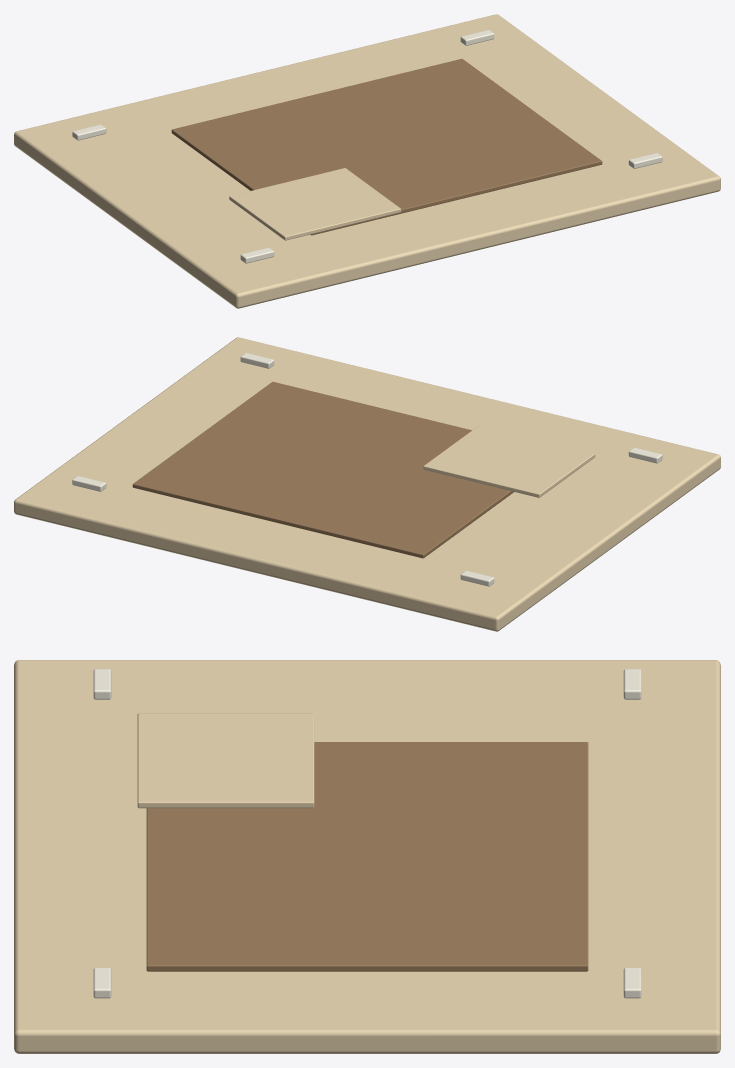
The model's file is marquetry-and-veneer-inlay-workshop-taped-lay-on-suppo-aa9a91e5__39103.glb.
3 renders of one model, top to bottom at view 1: azimuth 30°, elevation 25°; view 2: azimuth 150°, elevation 25°; view 3: azimuth 270°, elevation 25°, orthographic. The views are drawn at different scales.
Parts seen in each view (by area): view 1: taped-lay-on-support-panel; view 2: taped-lay-on-support-panel; view 3: taped-lay-on-support-panel.
Part boxes in pixels (x1,y1,x2,y2): taped-lay-on-support-panel: (14, 14, 720, 308); taped-lay-on-support-panel: (14, 337, 720, 631); taped-lay-on-support-panel: (14, 660, 720, 1053).
Bounding box in the file's own units: 0.5 × 0.025 × 0.4.
